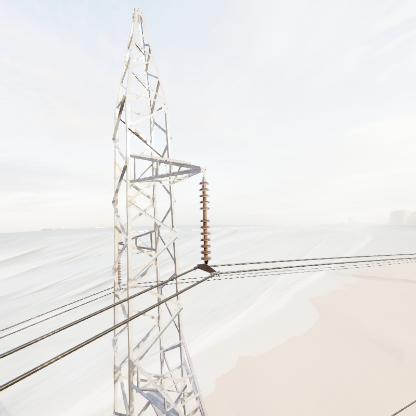insulator: (196, 177, 213, 266)
